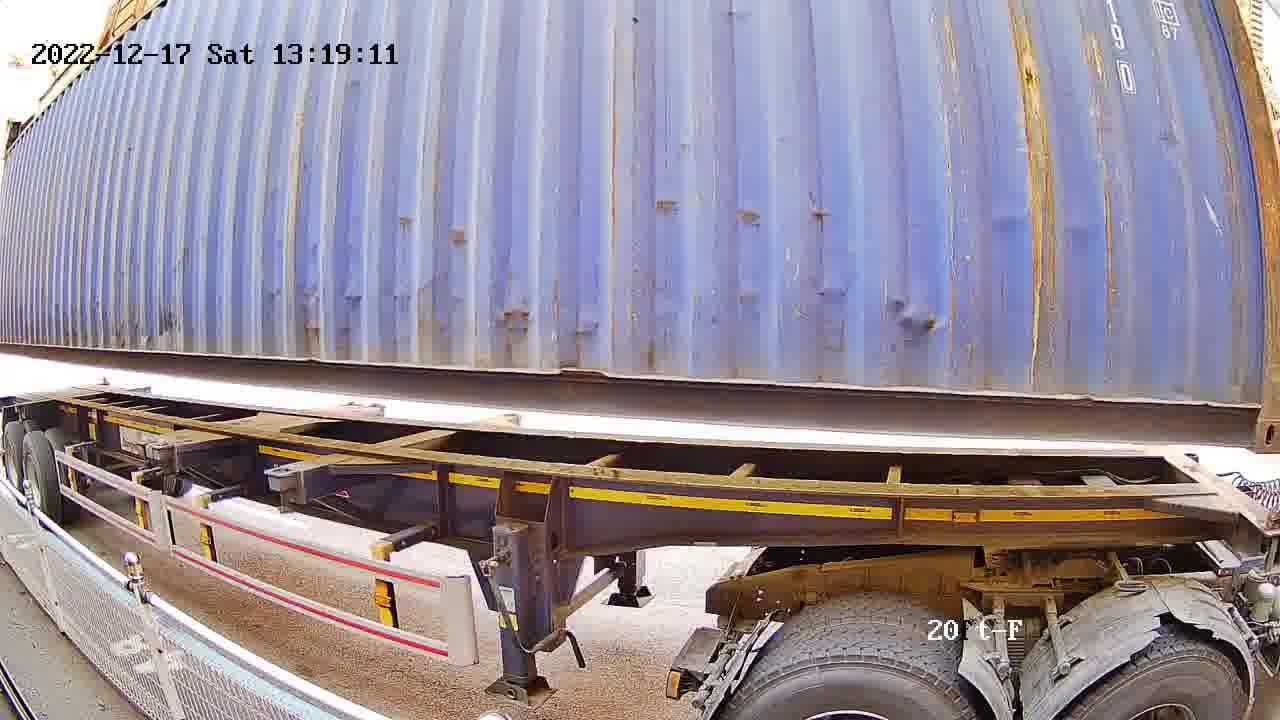Cone: (1257, 506, 1279, 578)
Hole_R: (1209, 380, 1279, 449)
Tire: (23, 434, 50, 509), (1, 424, 19, 481)
